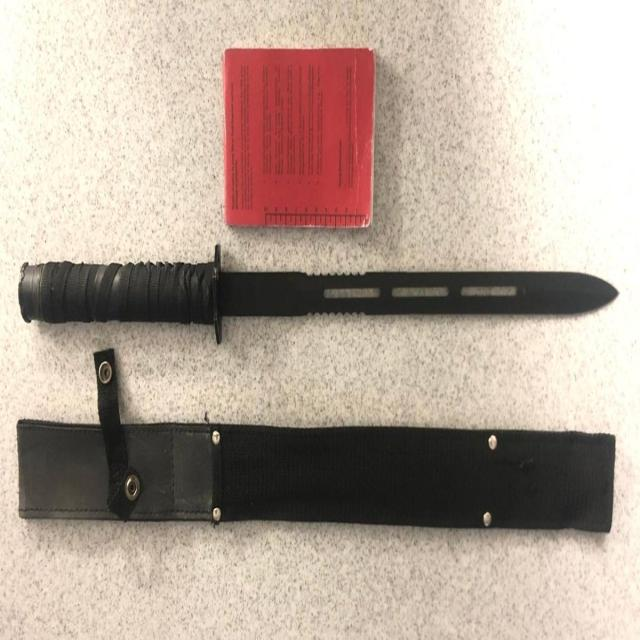Sharp-Object: (19, 253, 619, 342)
